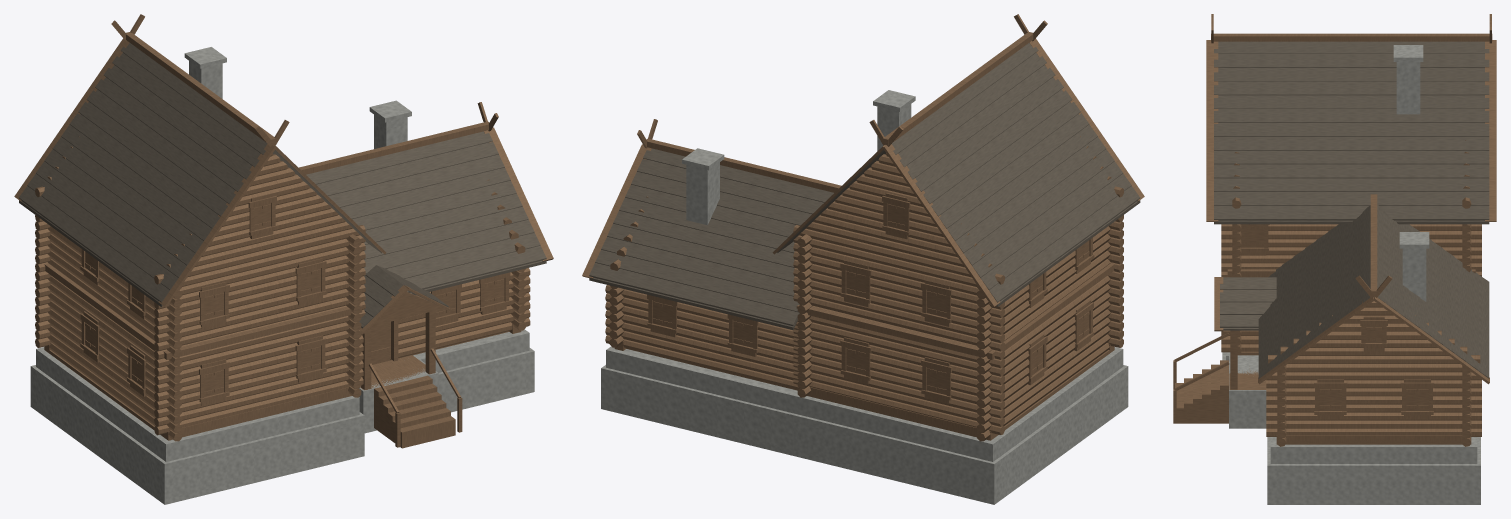
The picture shows the model from 3 angles, left to right: view 1: azimuth 30°, elevation 25°; view 2: azimuth 150°, elevation 25°; view 3: azimuth 270°, elevation 25°; orthographic projection. The views are drawn at different scales.
Parts seen in each view (by area): view 1: T2_roof, T2_gable, T2_foundation, T2_shell, T2_frame, T2_shutter, T2_entry_step, T2_chimney, T2_porch.001, T2_porch, T2_railing, T2_floor (+1 smaller); view 2: T2_roof, T2_foundation, T2_gable, T2_shell, T2_frame, T2_shutter, T2_chimney, T2_floor; view 3: T2_roof, T2_gable, T2_foundation, T2_frame, T2_shell, T2_chimney, T2_entry_step, T2_shutter, T2_porch.001, T2_railing, T2_floor, T2_porch.
Part boxes in pixels (x1,y1,x2,y2): T2_roof: (19, 43, 546, 328); T2_gable: (35, 136, 526, 435); T2_foundation: (30, 329, 534, 504); T2_shell: (44, 226, 530, 441); T2_frame: (14, 14, 553, 405); T2_shutter: (85, 203, 504, 396); T2_entry_step: (374, 375, 455, 448); T2_chimney: (184, 47, 411, 148); T2_porch.001: (359, 285, 452, 389); T2_porch: (360, 355, 425, 390); T2_railing: (369, 348, 462, 447); T2_floor: (47, 331, 509, 436); T2_roof: (589, 43, 1140, 329); T2_foundation: (601, 346, 1128, 504); T2_gable: (609, 136, 1123, 434); T2_shell: (605, 226, 1114, 441); T2_frame: (582, 14, 1144, 403); T2_shutter: (652, 203, 1089, 394); T2_chimney: (682, 90, 915, 225); T2_floor: (626, 348, 1109, 438); T2_roof: (1214, 41, 1489, 378); T2_gable: (1232, 140, 1481, 436); T2_foundation: (1222, 352, 1480, 504); T2_frame: (1206, 14, 1496, 418); T2_shell: (1221, 224, 1481, 446); T2_chimney: (1393, 45, 1429, 301); T2_entry_step: (1175, 360, 1228, 423); T2_shutter: (1241, 225, 1428, 410); T2_porch.001: (1214, 277, 1237, 389); T2_railing: (1173, 333, 1229, 423); T2_floor: (1238, 351, 1462, 444); T2_porch: (1229, 370, 1266, 389).
Bounding box in the file's own units: 15.48 × 12.82 × 10.81.
4 materials, 3 textured.
